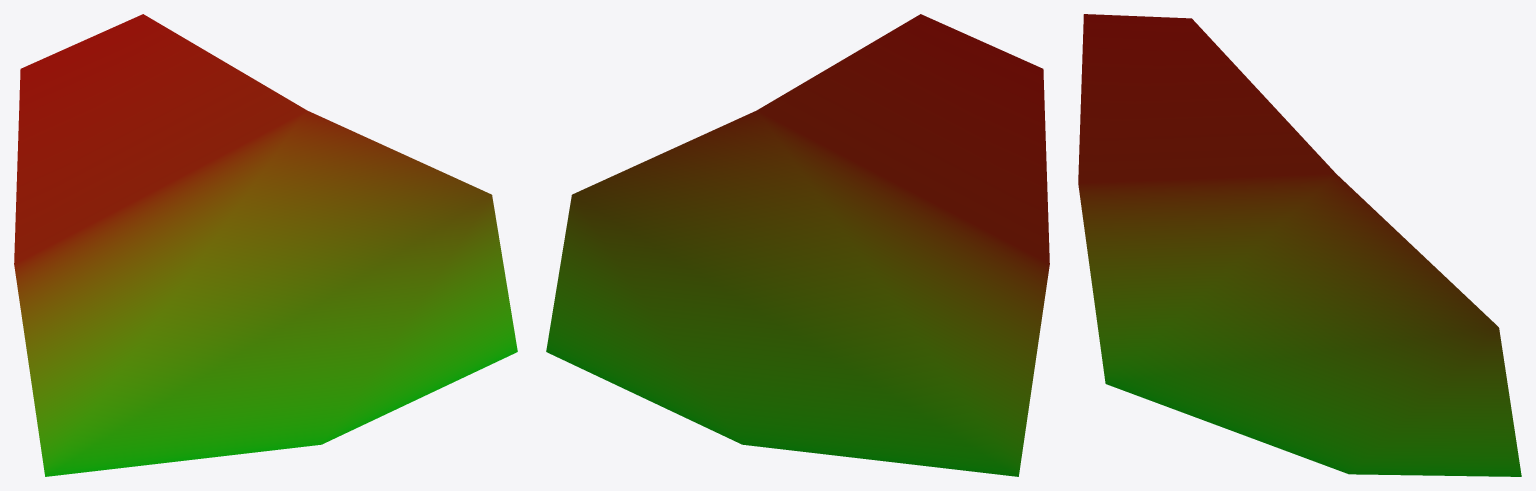
Rendered from Var9_LOD6.fbx.
The picture shows the model from 3 angles, left to right: view 1: azimuth 30°, elevation 25°; view 2: azimuth 150°, elevation 25°; view 3: azimuth 330°, elevation 25°; orthographic projection. The views are drawn at different scales.
Parts seen in each view (by area): view 1: _dbaj_Var9_LOD6; view 2: _dbaj_Var9_LOD6; view 3: _dbaj_Var9_LOD6.
Boxes of the visible parts, x1,y1,x2,y2 form: _dbaj_Var9_LOD6: (14, 14, 517, 476); _dbaj_Var9_LOD6: (546, 14, 1049, 476); _dbaj_Var9_LOD6: (1078, 14, 1521, 476).
Bounding box in the file's own units: 66.59 × 59.91 × 4.52e-06.
